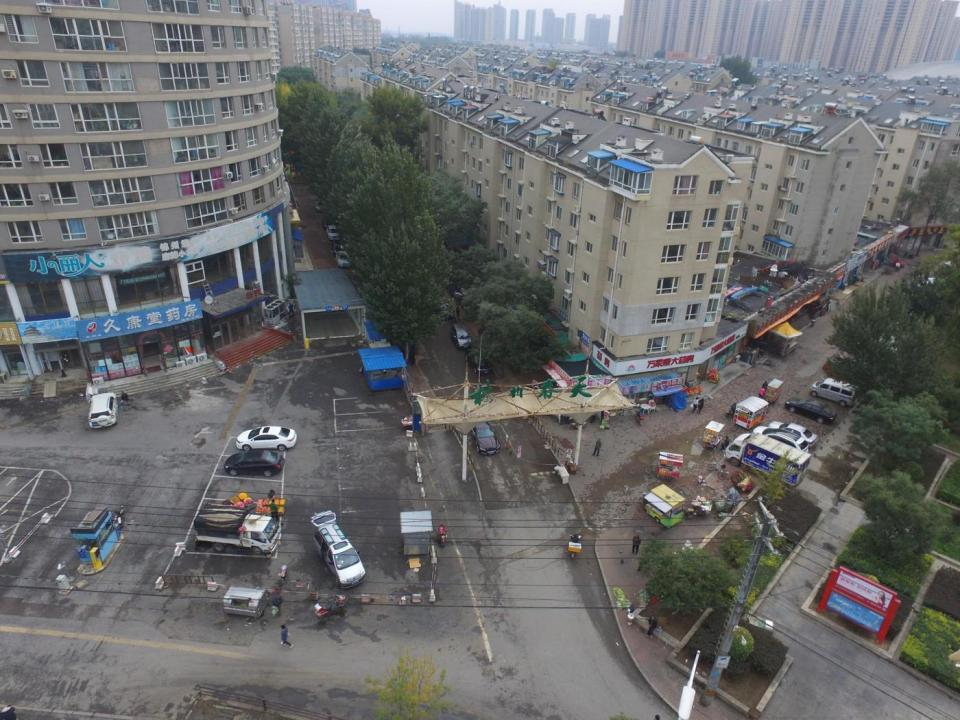car: (224, 449, 285, 479), (752, 426, 808, 457), (236, 424, 297, 452), (786, 397, 836, 424), (768, 421, 817, 448), (468, 418, 499, 455), (88, 393, 118, 428), (464, 348, 492, 373)
truck: (724, 432, 811, 486), (193, 503, 281, 553)
van: (311, 510, 366, 589), (810, 378, 857, 407), (449, 323, 472, 348)
